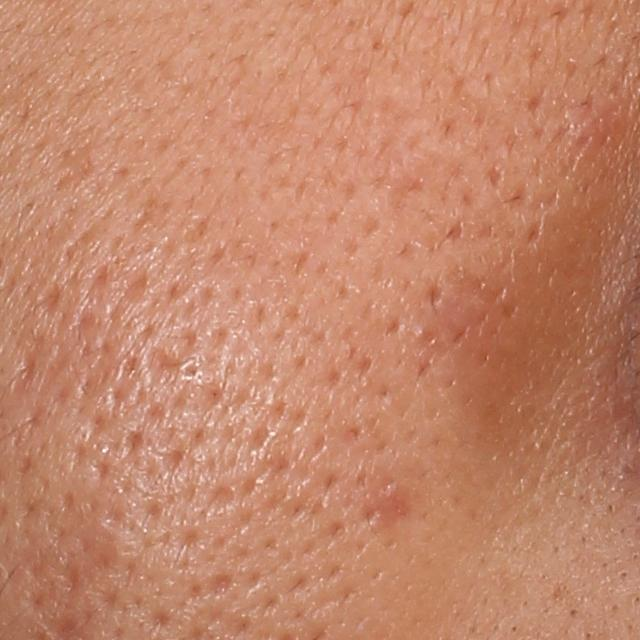atrophic_scar: (140, 344, 186, 395), (37, 280, 66, 317)
